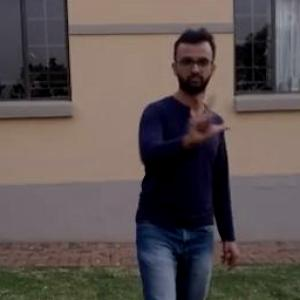land_hand: (174, 88, 231, 152)
